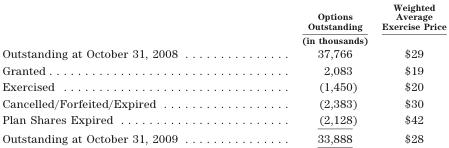table: (1, 1, 445, 145)
table column: (1, 1, 239, 145), (239, 1, 373, 145), (373, 1, 445, 145)
table column header: (1, 1, 445, 45)
table row: (1, 1, 445, 45), (1, 61, 445, 78), (1, 94, 445, 111), (1, 111, 445, 128), (1, 128, 445, 145), (1, 45, 445, 61), (1, 78, 445, 94)
